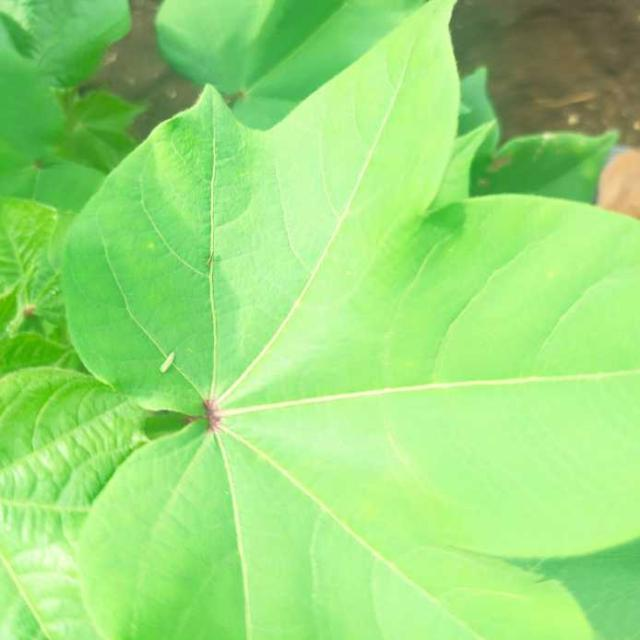Bacterial Blight: (196, 394, 228, 437)
Healthy: (0, 2, 638, 639)
